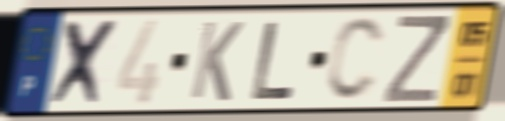4: (113, 17, 163, 108)
C: (323, 14, 388, 105)
K: (187, 18, 247, 105)
L: (248, 19, 299, 103)
X: (46, 16, 124, 109)
Z: (380, 13, 451, 106)
